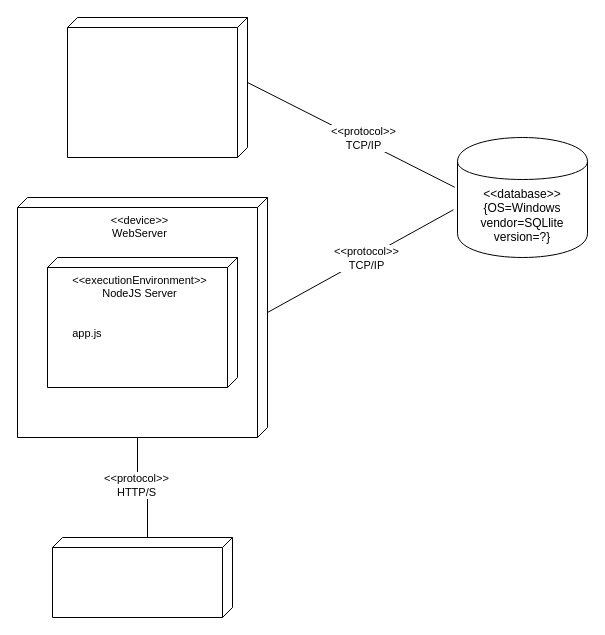
This 605x635 diagram has some shape labels left out. Here are the shapes that lost their labels. From the top down, the box of each, then its label:
(66, 16, 248, 158): <<executionEnvironment>> Mobile Device iOS or Android App.js
(52, 536, 232, 618): <<device>> Web Browser main.jsx
